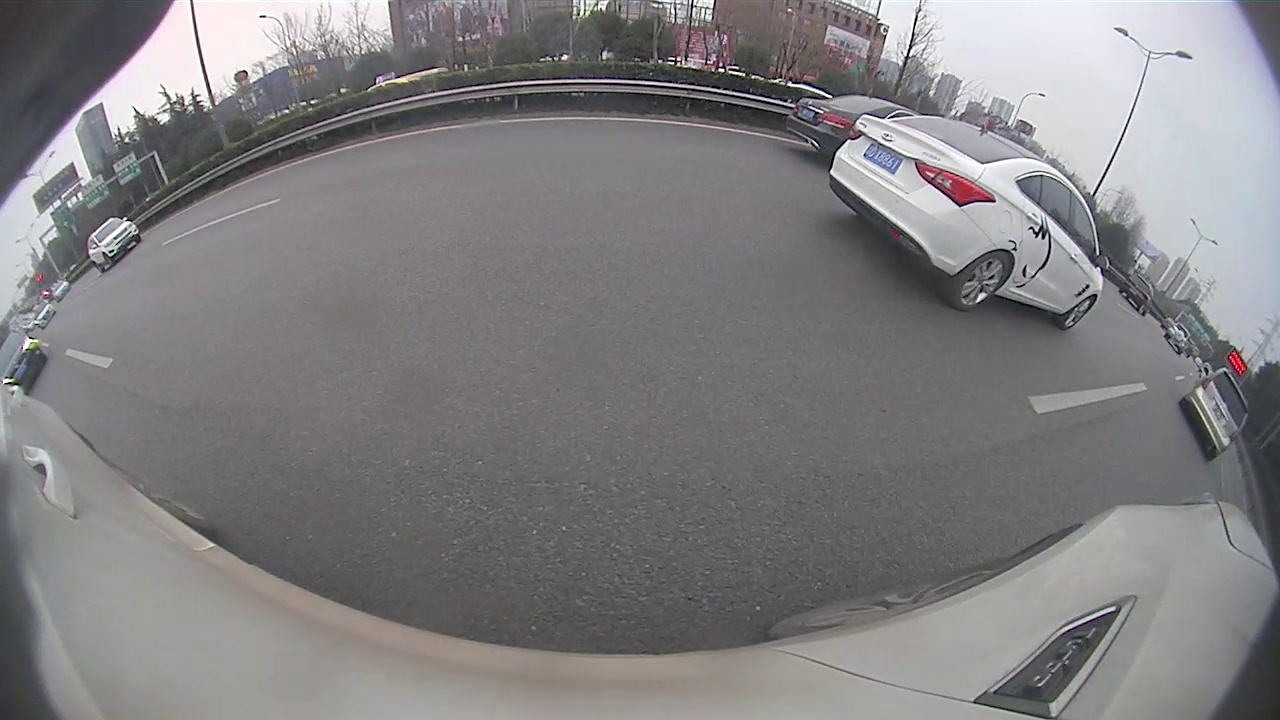car: (827, 112, 1105, 331), (1178, 366, 1248, 463), (86, 218, 142, 273), (1, 328, 47, 394), (1119, 274, 1153, 316), (1165, 323, 1188, 355)
front: (1051, 293, 1099, 331)
rear: (934, 250, 1011, 312)
